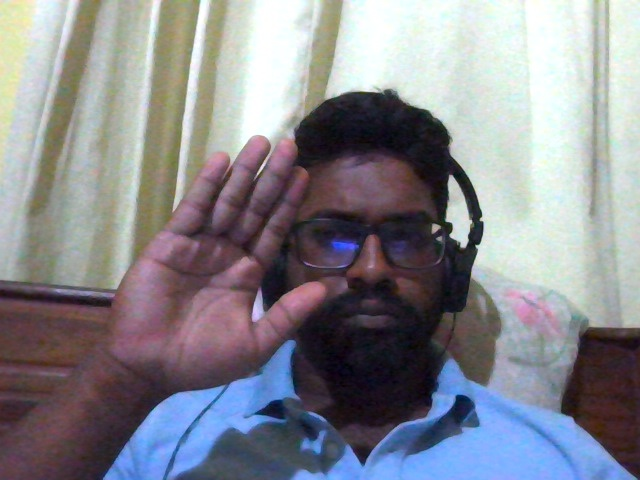Hello: (91, 130, 330, 392)
